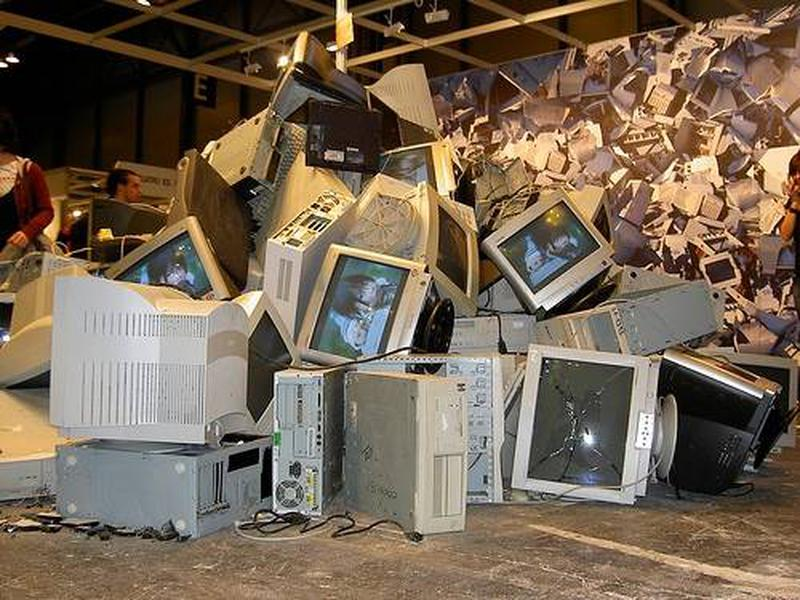tv_pc: (42, 264, 251, 445), (507, 340, 664, 512), (287, 241, 444, 374), (478, 184, 623, 317), (99, 214, 240, 303), (403, 175, 489, 318), (689, 249, 747, 293)
